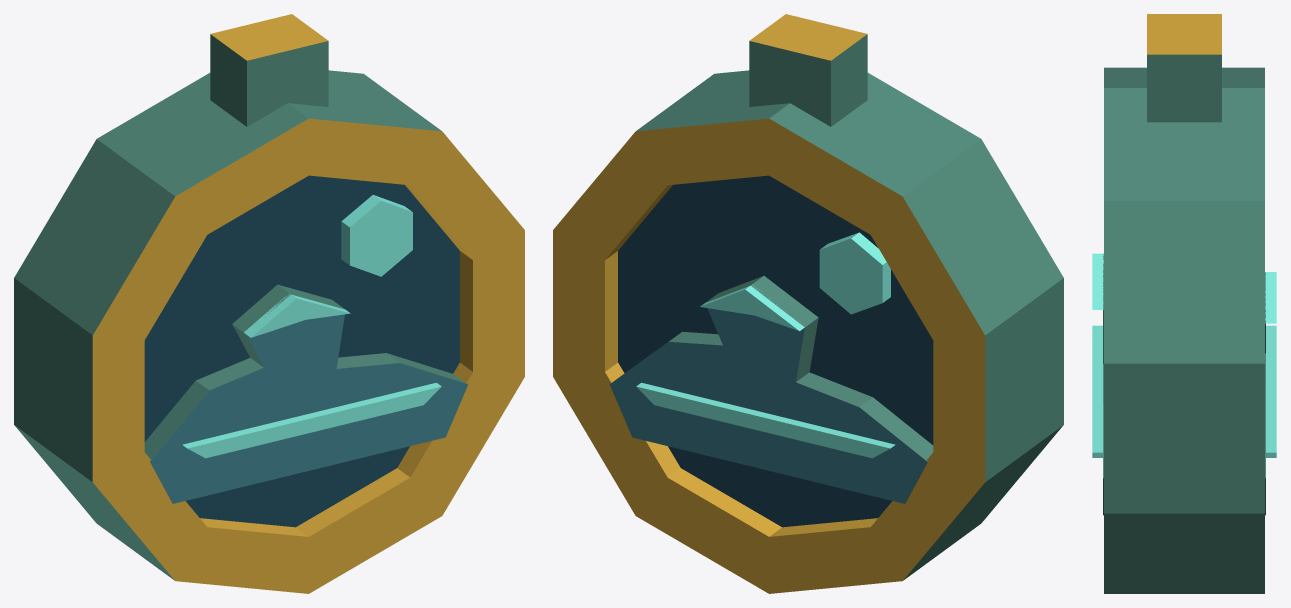
The model's file is key_seal_lake.fbx.
The picture shows the model from 3 angles, left to right: view 1: azimuth 30°, elevation 25°; view 2: azimuth 150°, elevation 25°; view 3: azimuth 270°, elevation 25°; orthographic projection. The views are drawn at different scales.
Visible parts, largest first — view 1: key_seal_lake; view 2: key_seal_lake; view 3: key_seal_lake.
Boxes of the visible parts, x1=… form: key_seal_lake: x1=14, y1=14, x2=524, y2=593; key_seal_lake: x1=553, y1=14, x2=1063, y2=593; key_seal_lake: x1=1092, y1=14, x2=1276, y2=593.
Size of the model in its own units: 0.4755 by 0.555 by 0.172.
